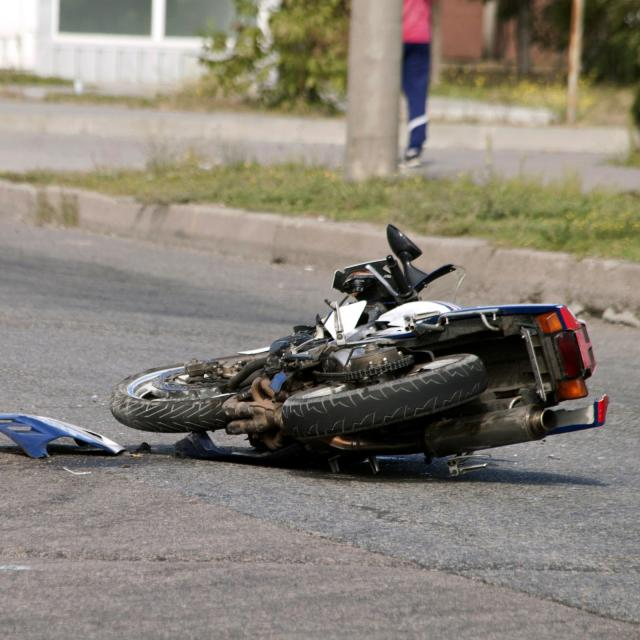accident: (110, 225, 609, 474)
